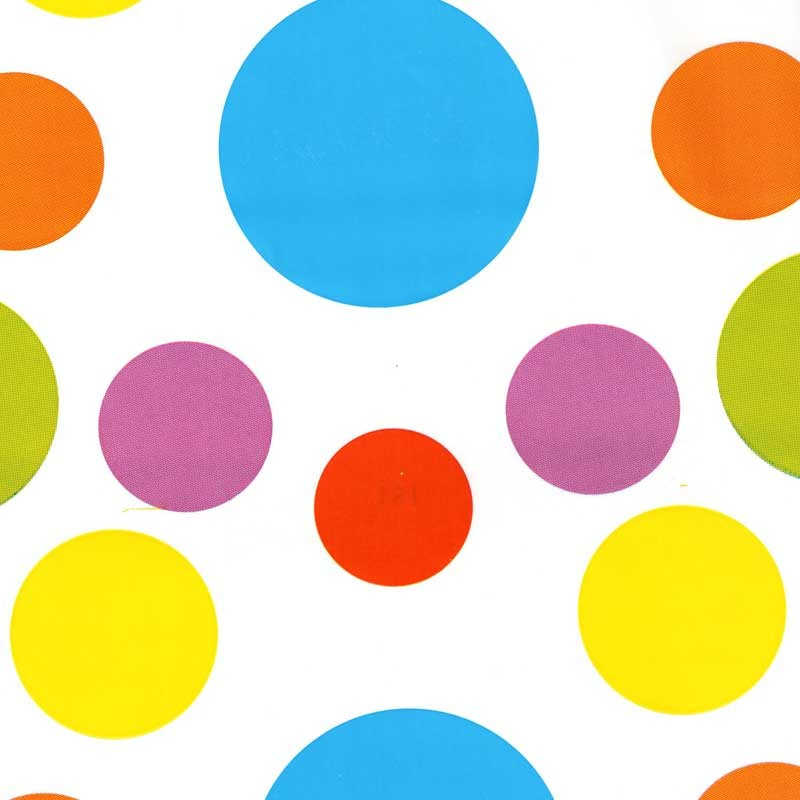circ: (195, 1, 558, 315), (8, 519, 229, 747), (572, 500, 793, 726), (496, 309, 696, 501), (98, 336, 281, 520), (304, 417, 485, 596), (643, 34, 800, 227), (1, 67, 111, 259)
